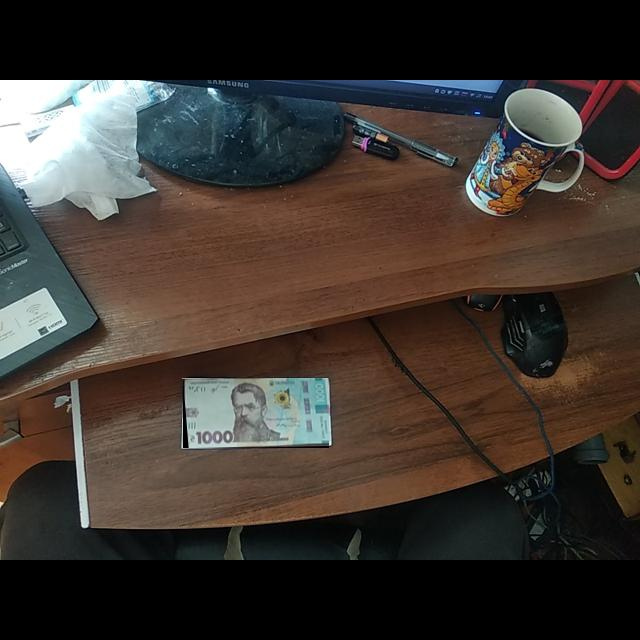1000uah: (185, 378, 330, 449)
